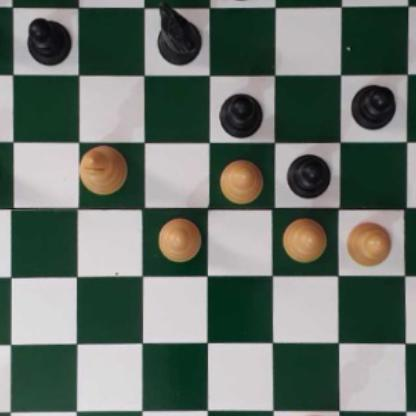black-knight: (153, 1, 200, 64)
black-pawn: (26, 13, 73, 66), (215, 88, 262, 138), (350, 80, 396, 128), (287, 150, 331, 198)
white-bishop: (80, 146, 128, 196)
white-king: (285, 412, 339, 416)
white-pawn: (343, 218, 390, 266), (214, 156, 263, 201), (280, 215, 325, 262), (154, 216, 200, 260)
